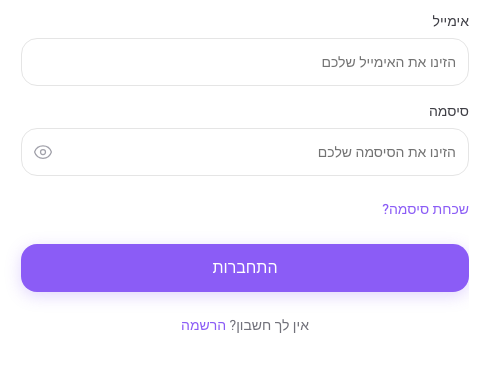
LoginForm › Form Validation (Hebrew Messages) › shows Hebrew error when password is empty on submit
Type "test@example.com" into the field labelled "אימייל". click: (245, 62)
box: x1=21 y1=38 x2=469 y2=86
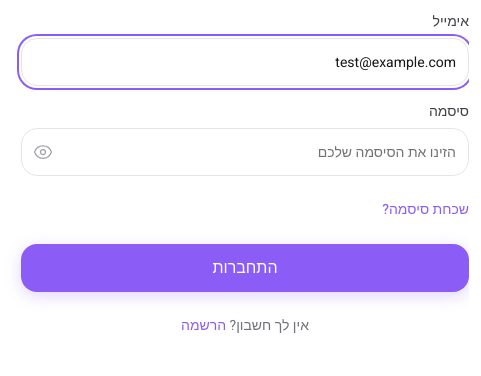
Click the button "התחברות". click: (245, 268)
box: x1=21 y1=244 x2=469 y2=292
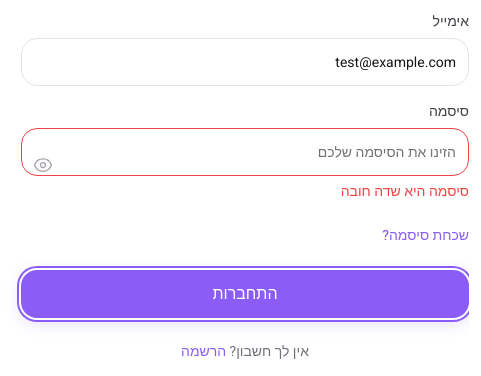
Expected: the text "סיסמה היא שדה חובה" is shown, x1=341 y1=181 x2=469 y2=202
